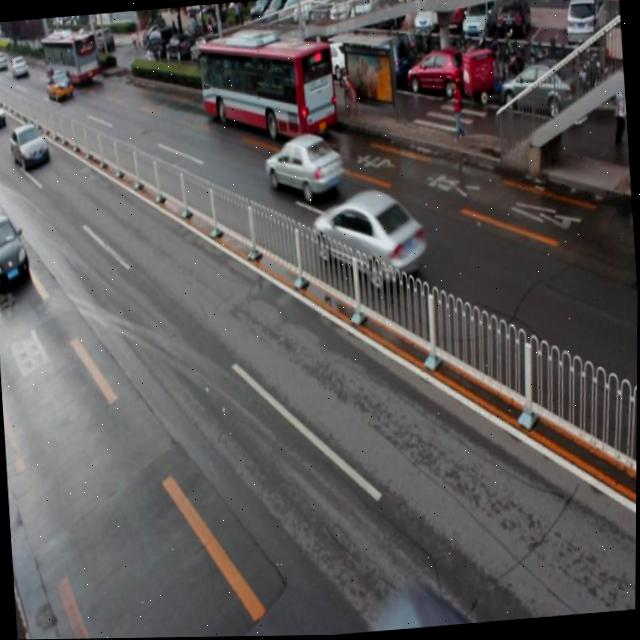car: (309, 184, 427, 292), (262, 129, 345, 203), (0, 210, 33, 288)
van: (197, 30, 337, 145)
